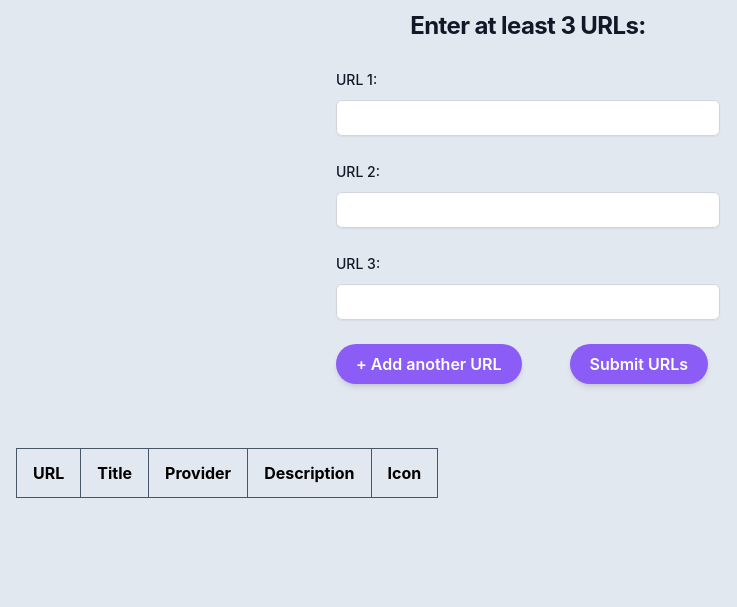
Test case: adds a new URL input field when 'Add another URL' button is clicked
Click the button "+ Add another URL" at [429, 364], box [336,344,522,384]
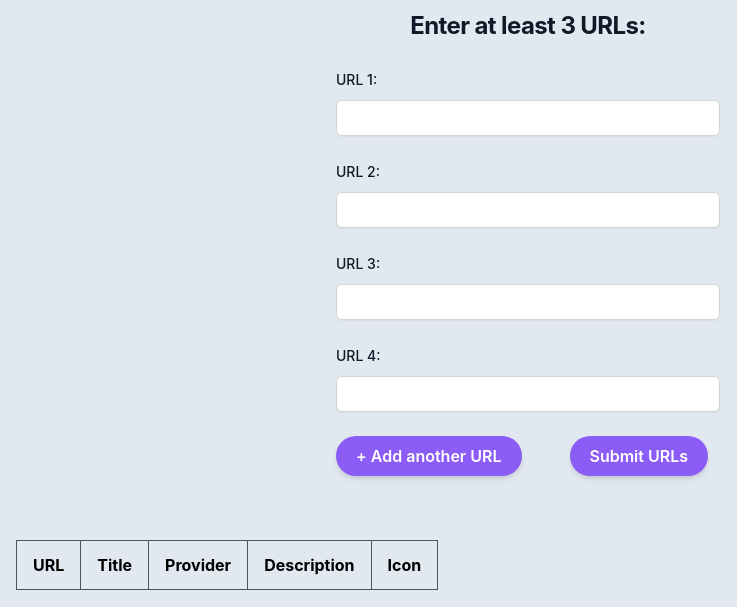
Expected: the number of fields is 4, [336,100,720,136]; [336,192,720,228]; [336,284,720,320]; [336,376,720,412]
